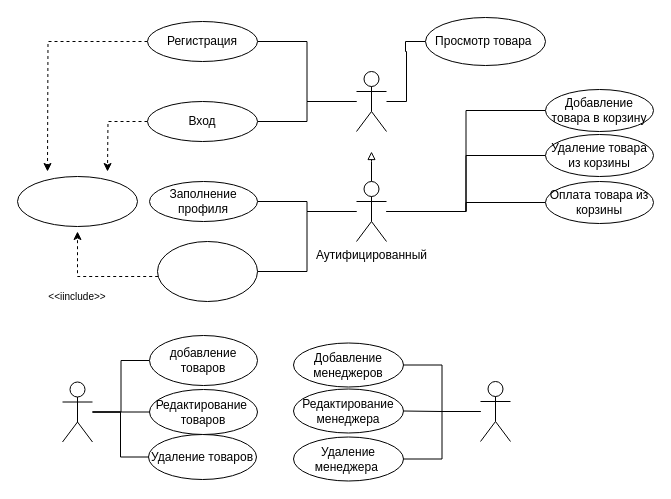
Image size: 671x499. Some labels were removed from this diagram. The centre of each missing label's shape, as x and y in pixels:
Администратор: (495,411)
Менеджер: (77,411)
Пользователь: (371,101)
Потверждение номера: (77,201)
Редактирование пользователя: (207,271)
